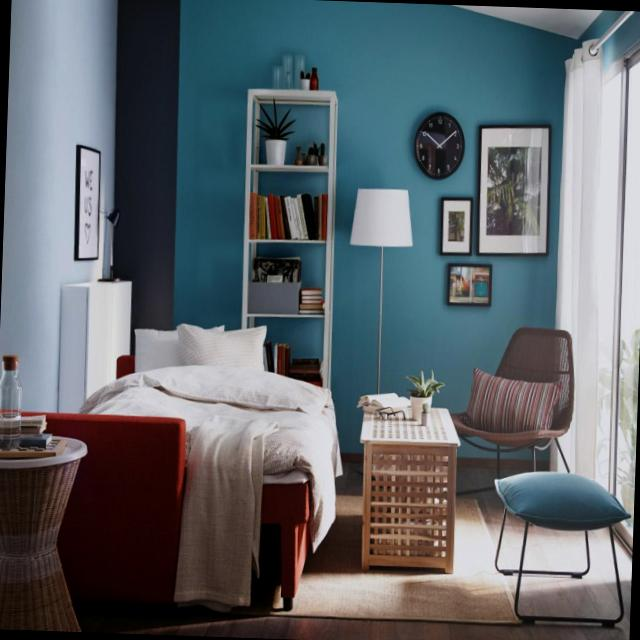obstacle: (80, 334, 340, 625), (482, 457, 636, 628), (0, 348, 92, 629), (446, 322, 583, 478), (354, 392, 462, 577)
